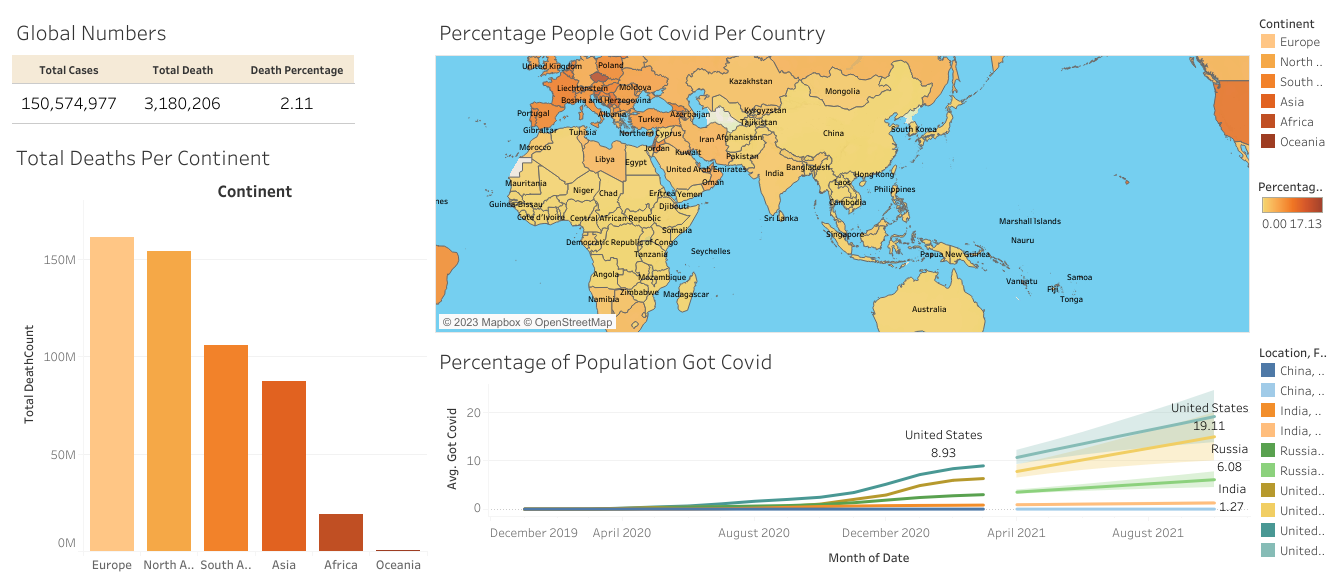

What the dashboard file says about the page in this screenshot:
{"tool":"tableau","page":{"name":"Dashboard 1","canvas":[1000,1000],"units":"permille","ordinal":0},"visuals":[{"type":"worksheet","title":"Sheet 1","mark":"Automatic","box":[6.7,12.7,315.3,213.6]},{"type":"worksheet","title":"Sheet 3","mark":"Automatic","box":[322,12.7,606.8,563.3]},{"type":"legend","title":"Sheet 2","param":"[federated.1hx6si71n0g4ay1b53l3q0t15ihf].[none:Location:nk]","box":[928.8,12.7,64.5,254.8]},{"type":"worksheet","title":"Sheet 2","mark":"Automatic","rows":["Total_DeathCount"],"cols":["Location"],"box":[6.7,226.3,315.3,761.1]},{"type":"legend","title":"Sheet 3","param":"[federated.09captf0orb3cx17h49391cy0ezg].[sum:Got_Covid:qk]","box":[928.8,267.4,64.5,102.9]},{"type":"worksheet","title":"Sheet 4","mark":"Automatic","rows":["Got_Covid"],"cols":["date"],"box":[322,575.9,606.8,411.4]},{"type":"legend","title":"Sheet 4","param":"[federated.050z0zn18hract1bxulut01n06wu].[none:Location:nk]\n[federated.050z0zn18","box":[928.8,576,64.5,357.6]}]}

Visuals, with their boxes on the dashboard's canvas, which has no fixed pixel size, in thousandths of its width and height (x1, y1, x2, y2). These are canvas units, not pixel positions in the 1338x584 screenshot, which may show the page scaled, cropped or inside an application window:
"Sheet 1" worksheet: <bbox>7, 13, 322, 226</bbox>
"Sheet 3" worksheet: <bbox>322, 13, 929, 576</bbox>
"Sheet 2" legend: <bbox>929, 13, 993, 268</bbox>
"Sheet 2" worksheet: <bbox>7, 226, 322, 987</bbox>
"Sheet 3" legend: <bbox>929, 267, 993, 370</bbox>
"Sheet 4" worksheet: <bbox>322, 576, 929, 987</bbox>
"Sheet 4" legend: <bbox>929, 576, 993, 934</bbox>
